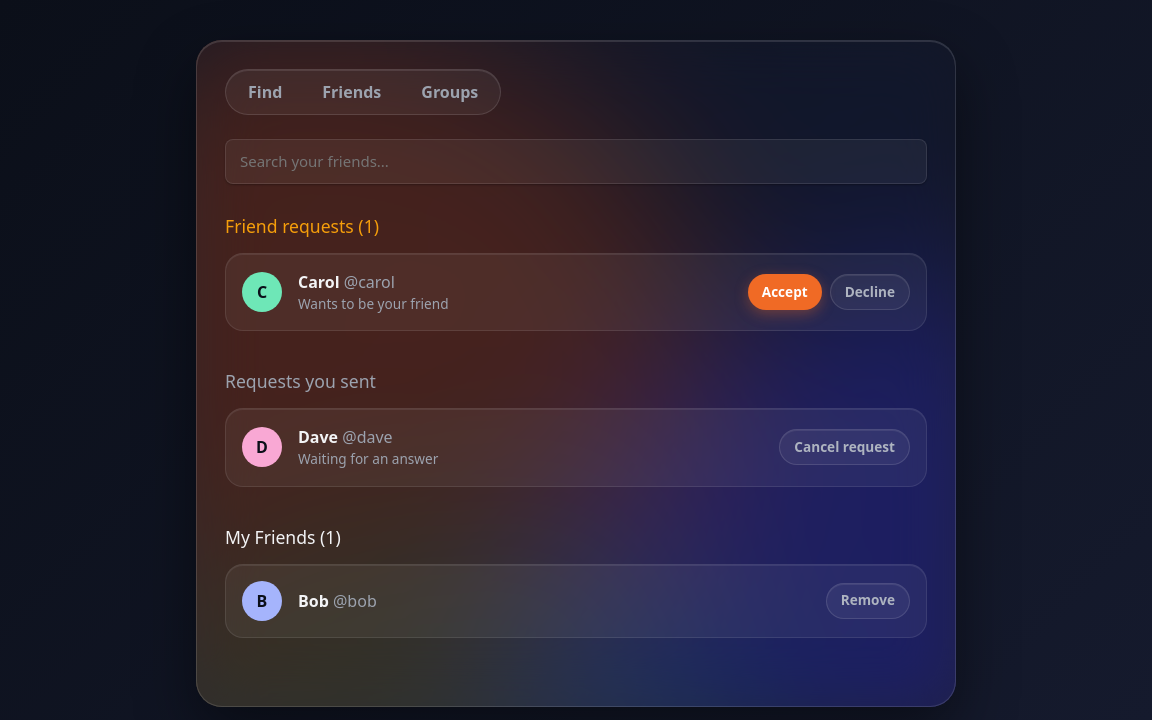
removing a friend asks for confirmation first
The image size is (1152, 720).
Click the button with aria-label "Remove Bob from your friends" at x=868, y=601, box [826,583,910,619]
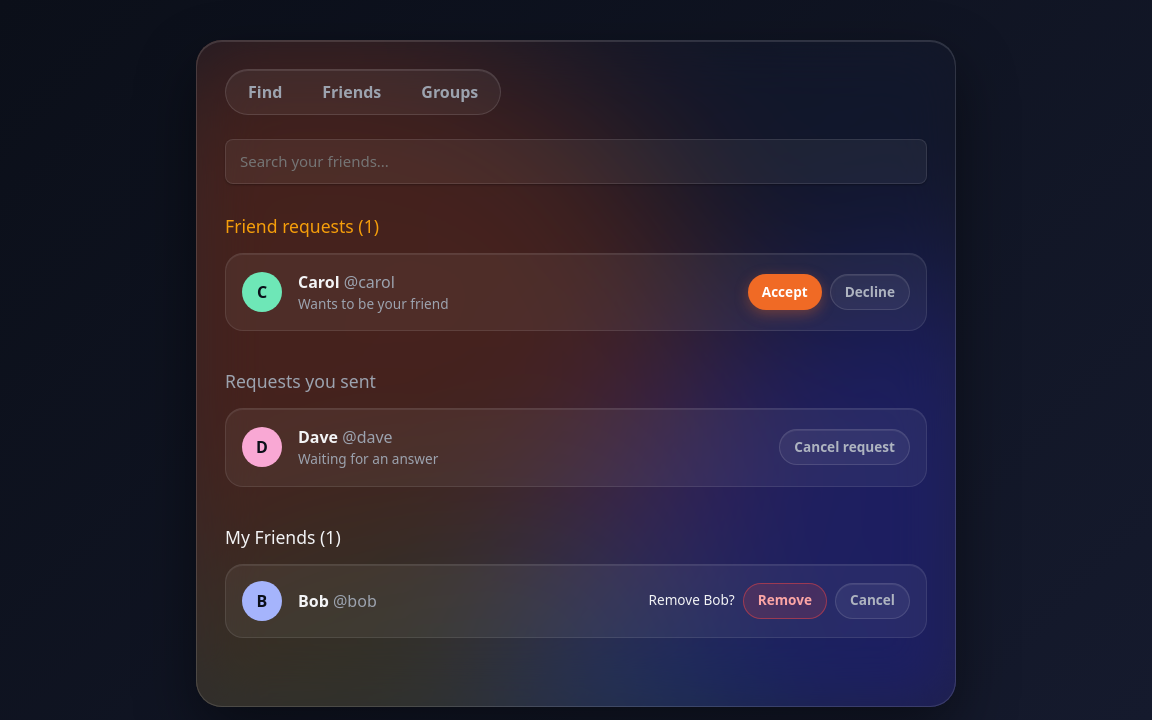
Expected: the text "Remove Bob?" is shown, [648,590,735,611]
Click the button "Remove" at x=785, y=601, box [743,583,827,619]
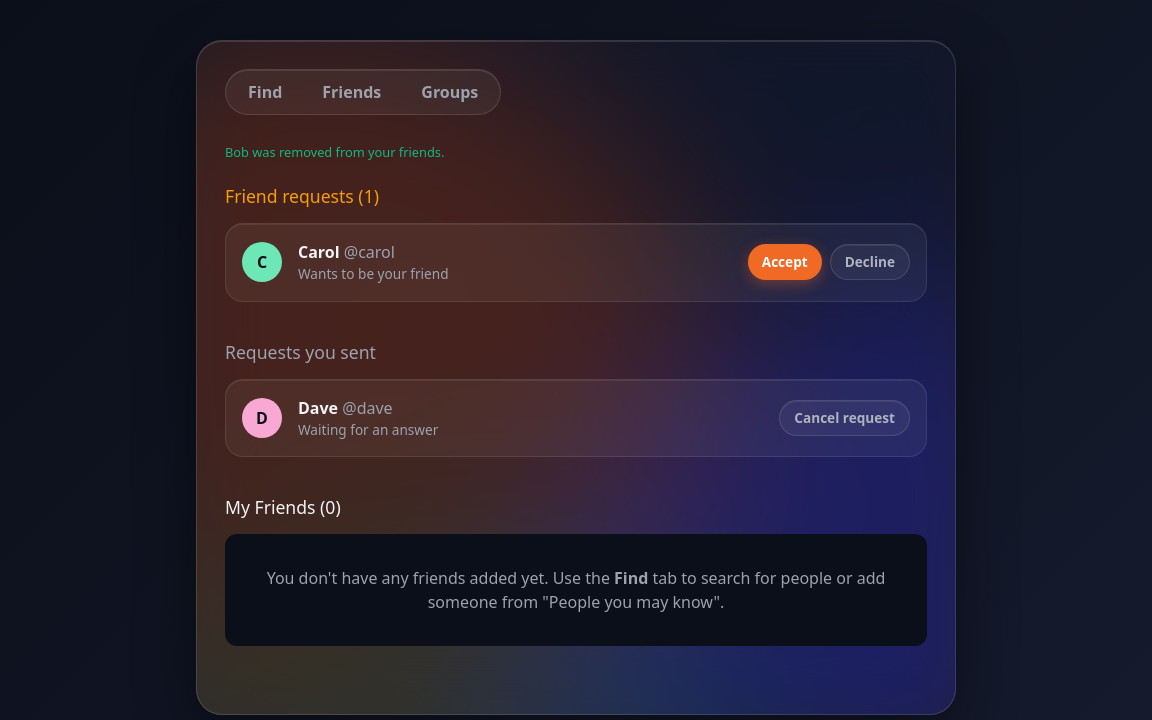
Expected: the heading "My Friends (0)" is shown, [225,495,341,519]
